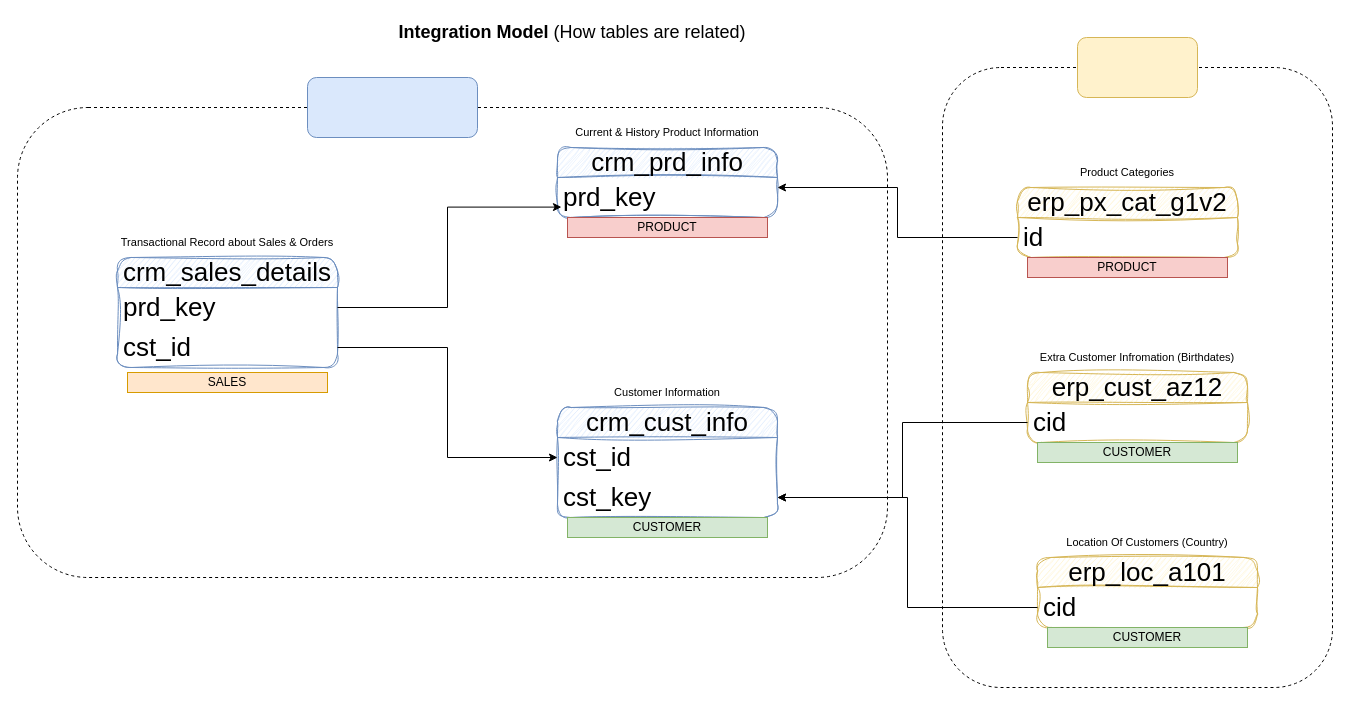
This 1350x705 diagram has some shape labels left out. The shapes that lost their labels are listed below. From the top down, each one's centre as x and y in pixels, then its label:
(1137,67): ERP
(392,107): CRM
